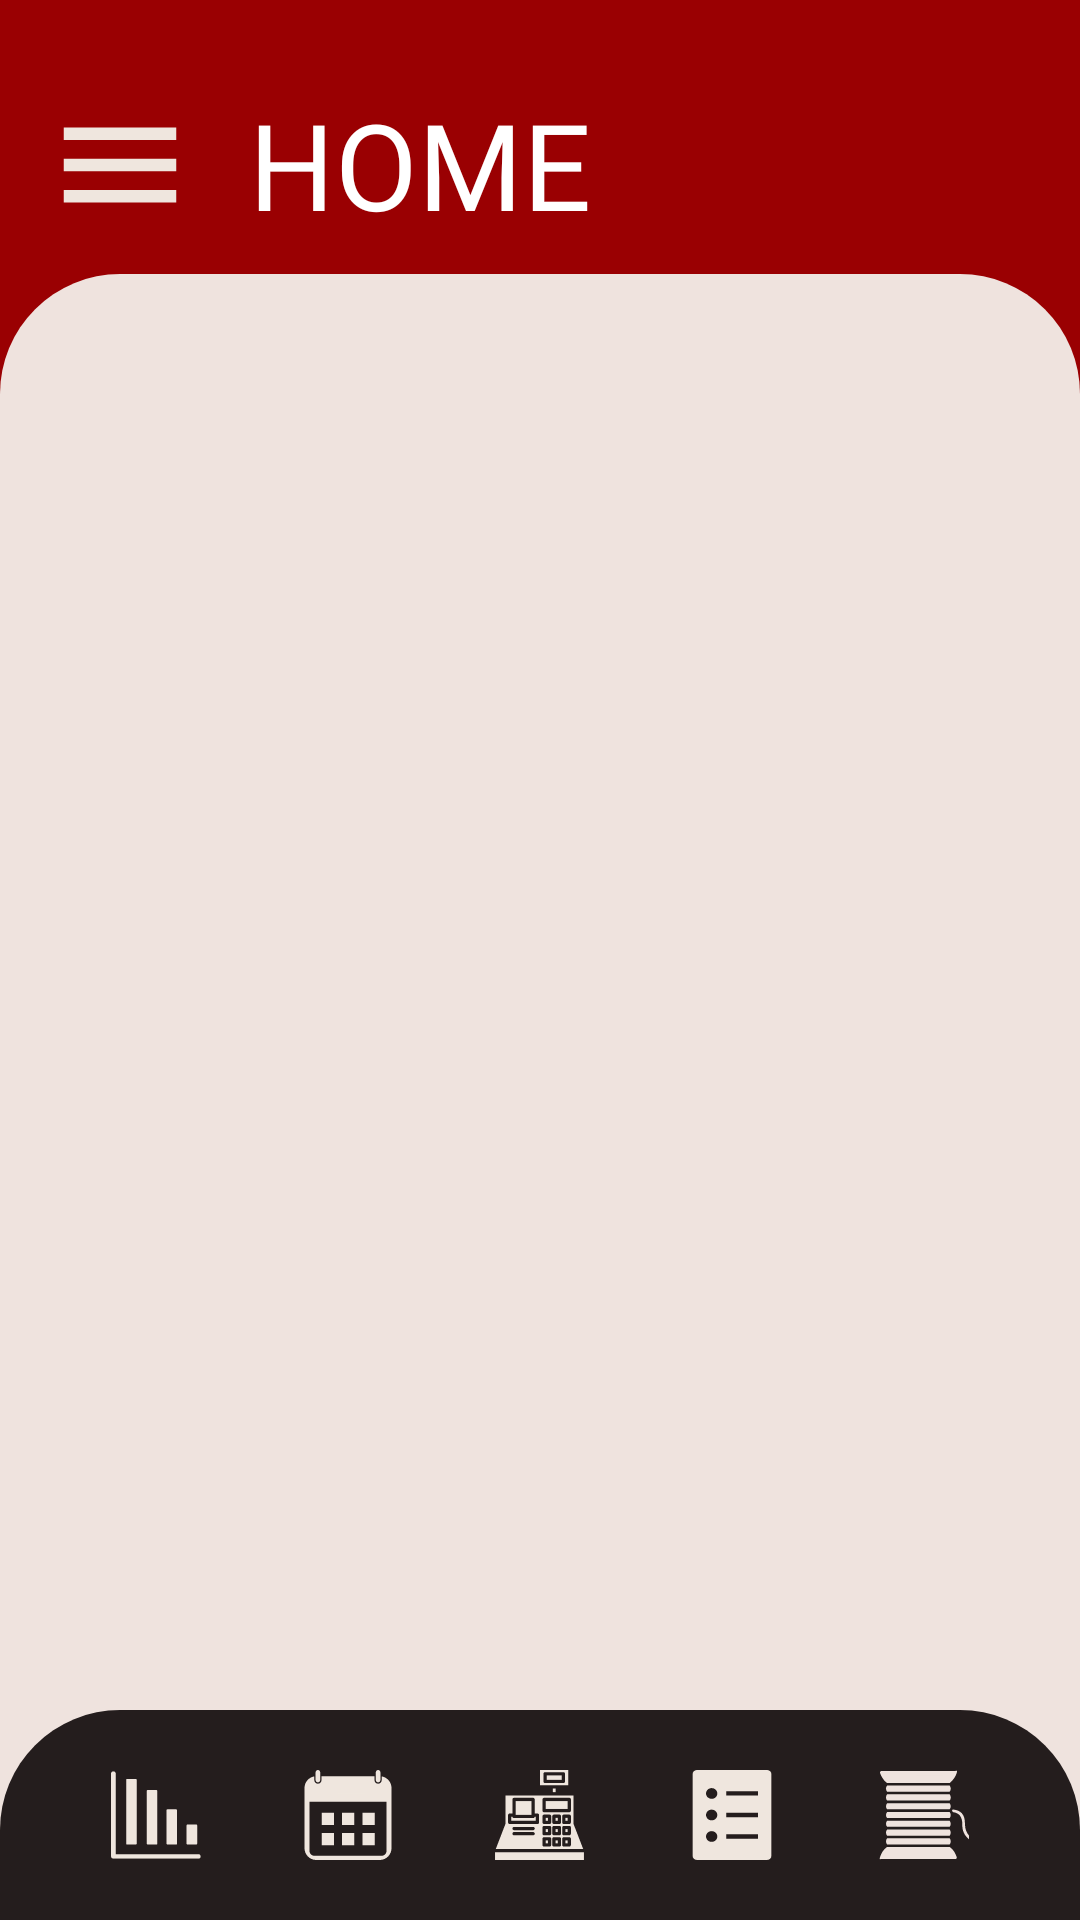

Locate icon controls on the screen. Image size 1080x1920, boxes as (x1, y1, x2, y2).
materials: (879, 1770, 969, 1860)
Menu: (63, 127, 177, 203)
